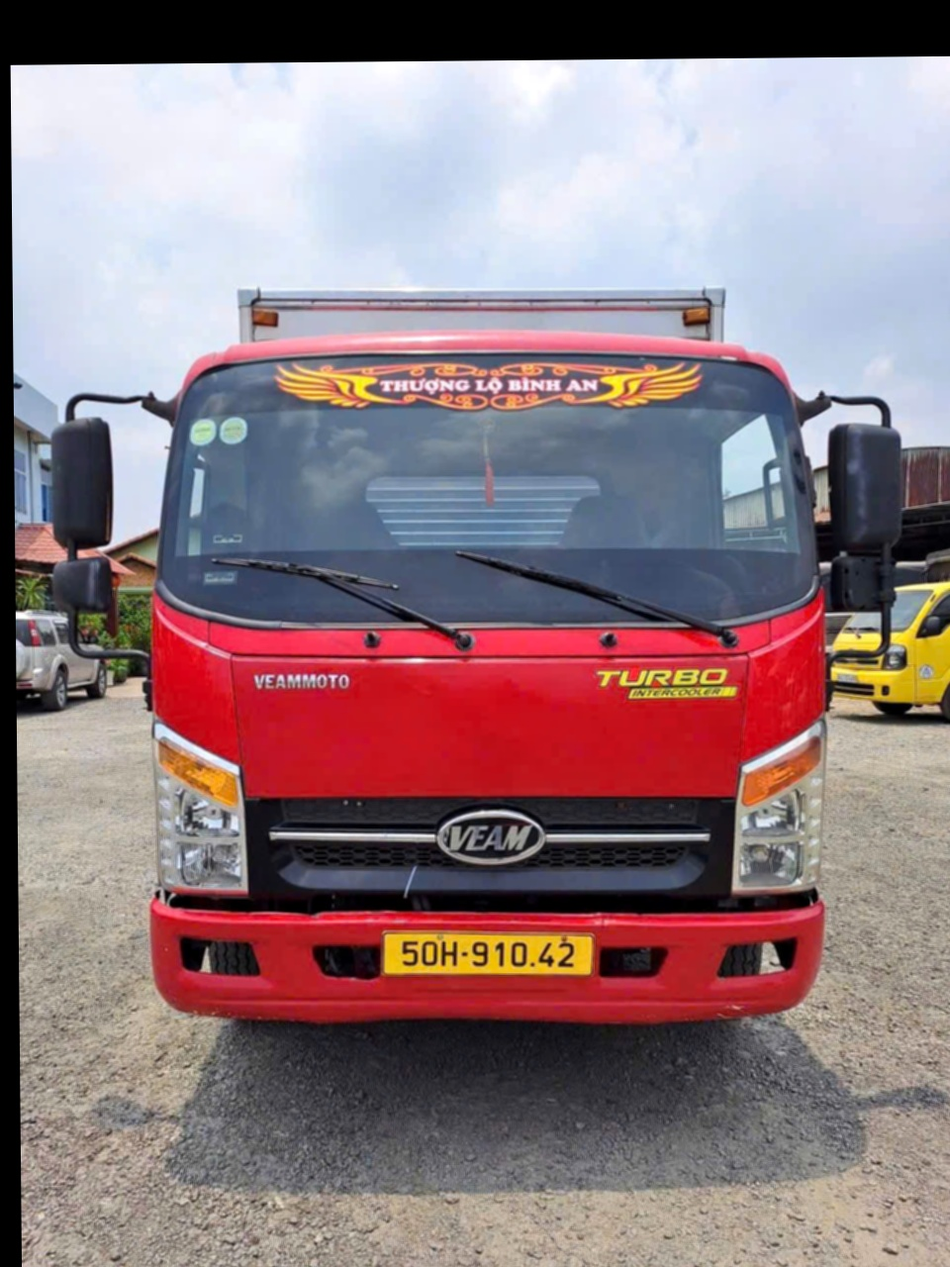Bien-so: (346, 907, 568, 969)
